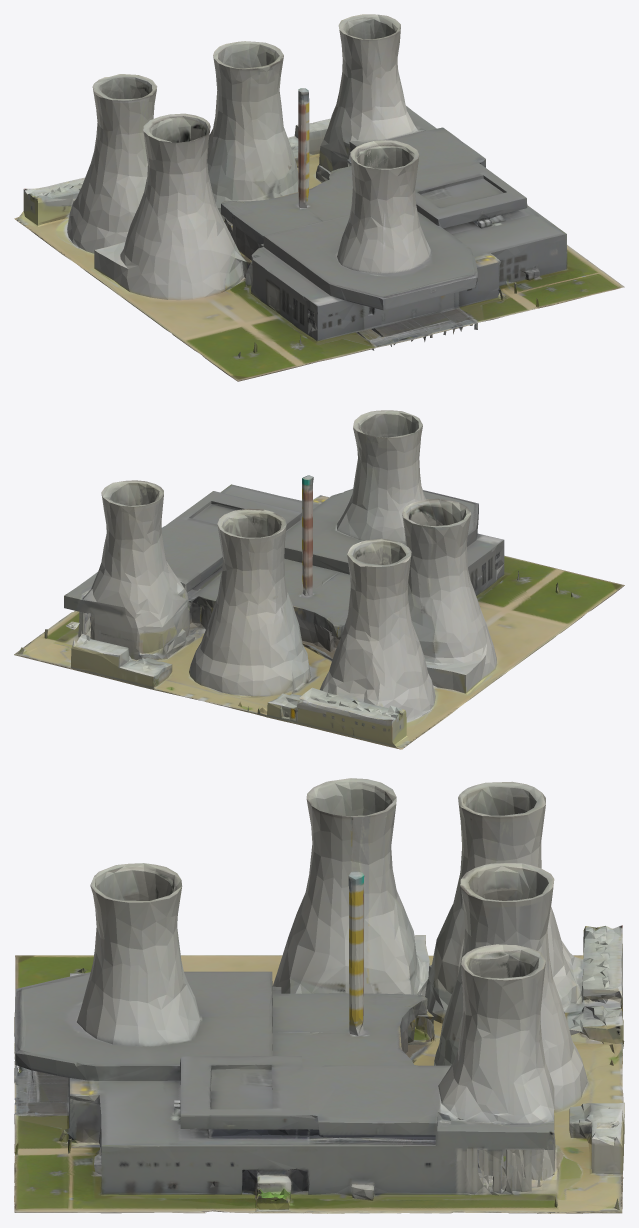
File: low_poly_game_asset_f_0611170742_texture.fbx
The picture shows the model from 3 angles, top to bottom: view 1: azimuth 30°, elevation 25°; view 2: azimuth 150°, elevation 25°; view 3: azimuth 270°, elevation 25°; orthographic projection. The views are drawn at different scales.
Visible parts, largest first — view 1: temp; view 2: temp; view 3: temp.
Boxes of the visible parts, left/top/right/bottom form: temp: left=14, top=14, right=624, bottom=381; temp: left=14, top=410, right=624, bottom=749; temp: left=14, top=778, right=624, bottom=1213.
Bounding box in the file's own units: 199 × 78.9 × 199.
1 material, 1 textured.
